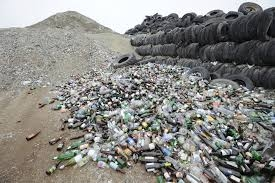glass: (60, 153, 87, 172), (44, 158, 62, 179), (208, 146, 239, 158), (143, 161, 174, 171), (184, 169, 202, 183), (24, 128, 43, 141), (108, 161, 126, 174), (139, 155, 168, 163), (160, 168, 173, 181), (48, 135, 64, 145)
plastic: (224, 71, 257, 91), (259, 6, 275, 40), (112, 52, 138, 70), (184, 66, 216, 80), (239, 1, 264, 16), (223, 10, 244, 23), (207, 8, 227, 20)
